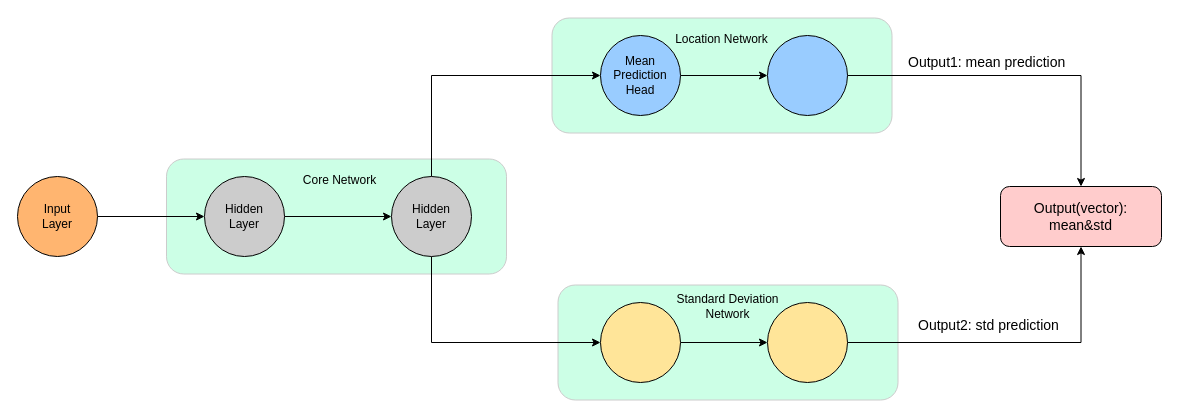
This 1179x417 diagram has some shape labels left out. The centre of each missing label's shape, as x and y in pixels:
Mean Output: [807,75]
Std Output: [807,342]
Std Prediction Head: [640,342]
